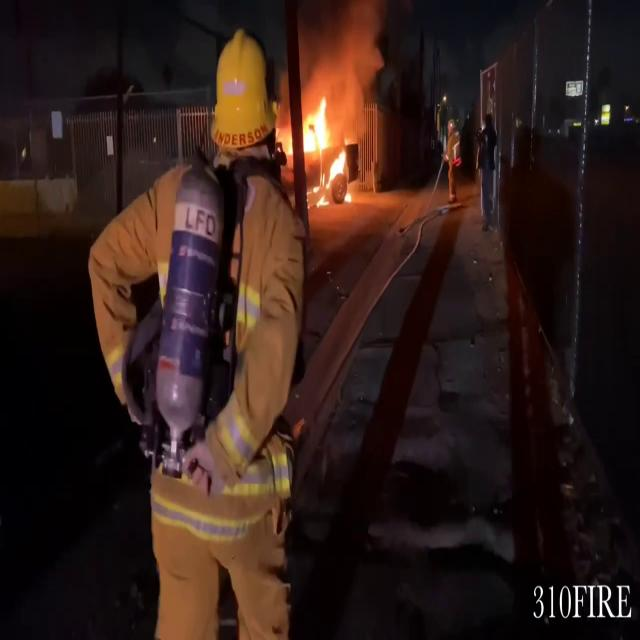Fire: (288, 89, 354, 203)
Smoke: (297, 0, 393, 104)
